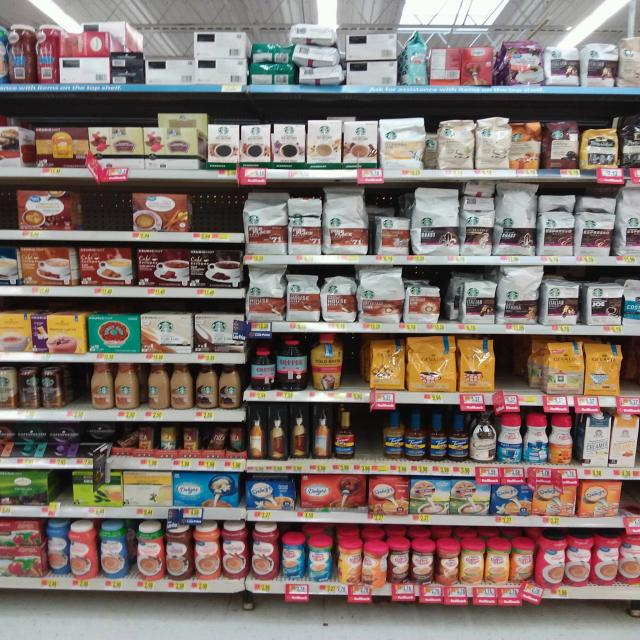void: (498, 338, 538, 410), (80, 192, 133, 241), (197, 188, 239, 242), (355, 405, 381, 473), (345, 334, 368, 404), (64, 366, 92, 421), (622, 340, 640, 411), (0, 178, 17, 235), (622, 481, 640, 526)
